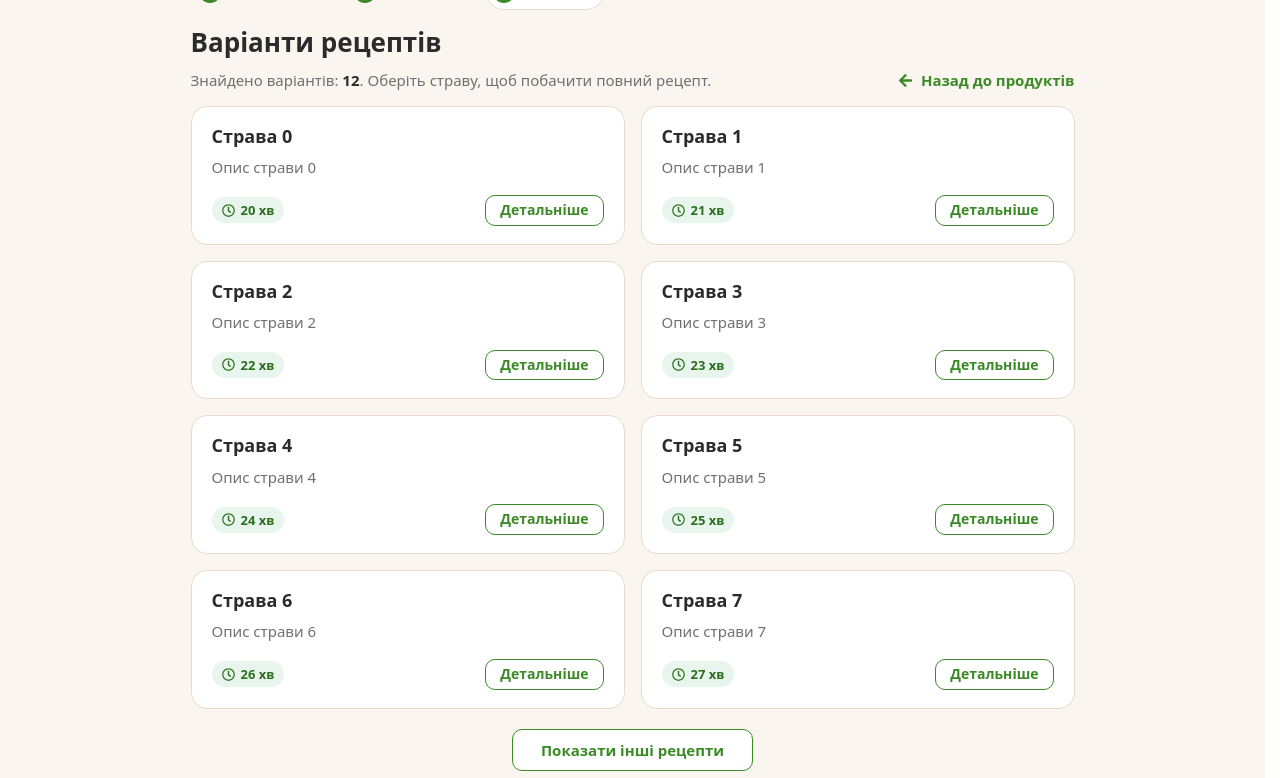
User journeys: favorites › saves recipe from suggestions
The image size is (1280, 778).
(page scrolled)
Expected: the heading "Страва 0" is shown, [212,124,292,148]
Click the button "Показати інші рецепти" at coordinates (632, 750), box [512,729,753,771]
(page scrolled)
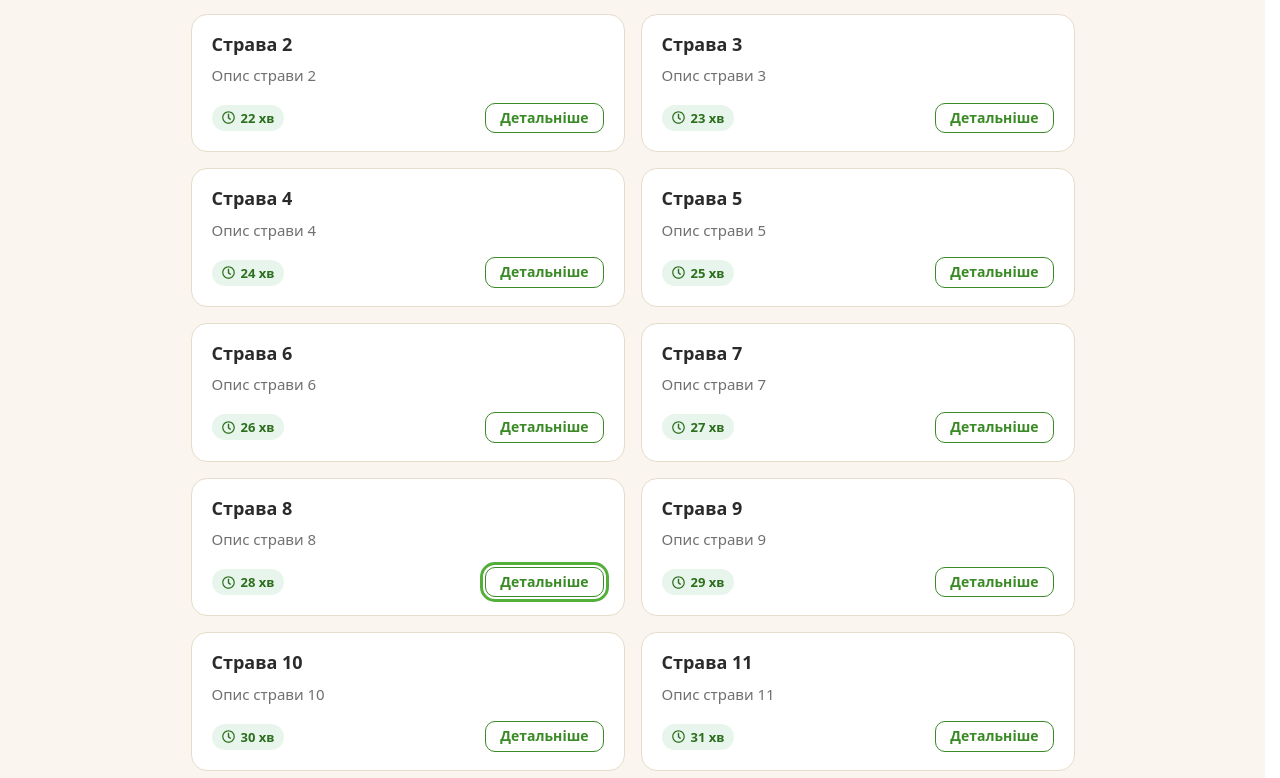
Click the link with aria-label "Детальніше: Страва 9" at coordinates (994, 582), box [935,567,1054,597]
(page scrolled)
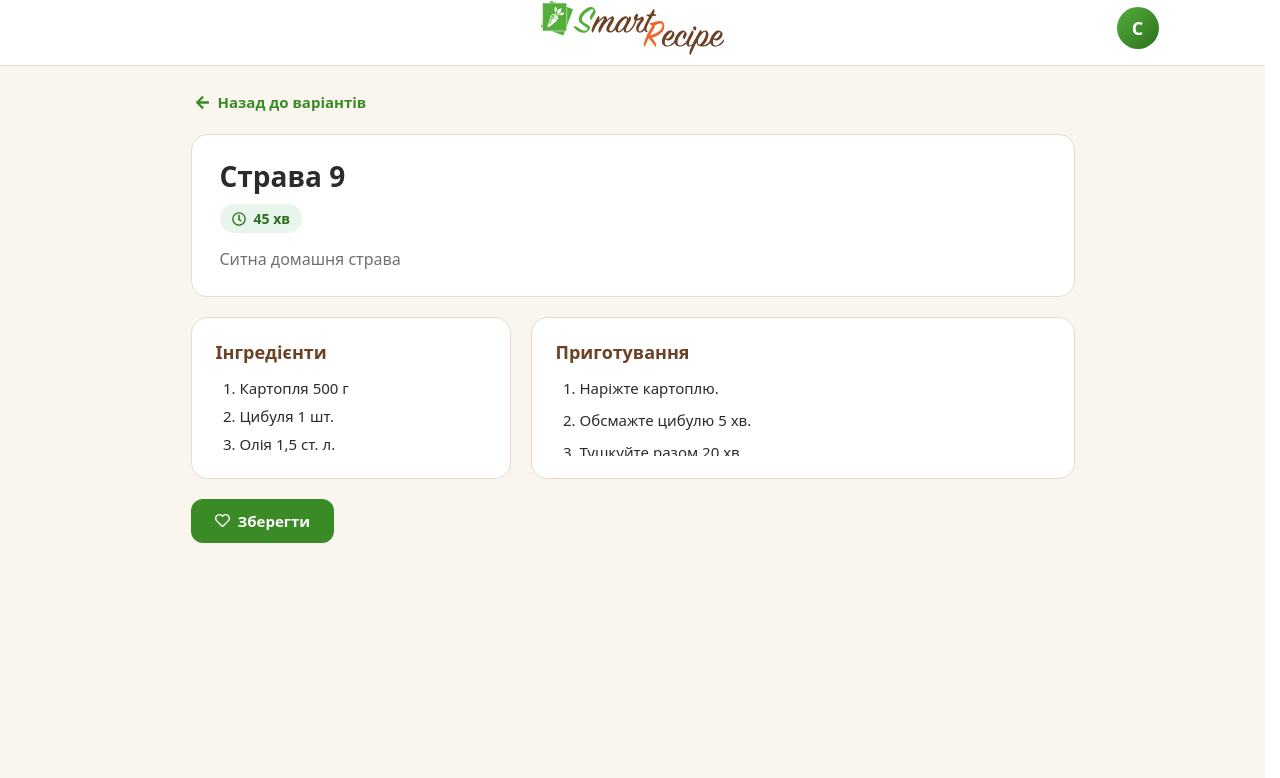
Now the heading "Страва 9" is shown, box [220,157,345,195]
Click the button "Зберегти" at coordinates (262, 521), box [190,499,334,543]
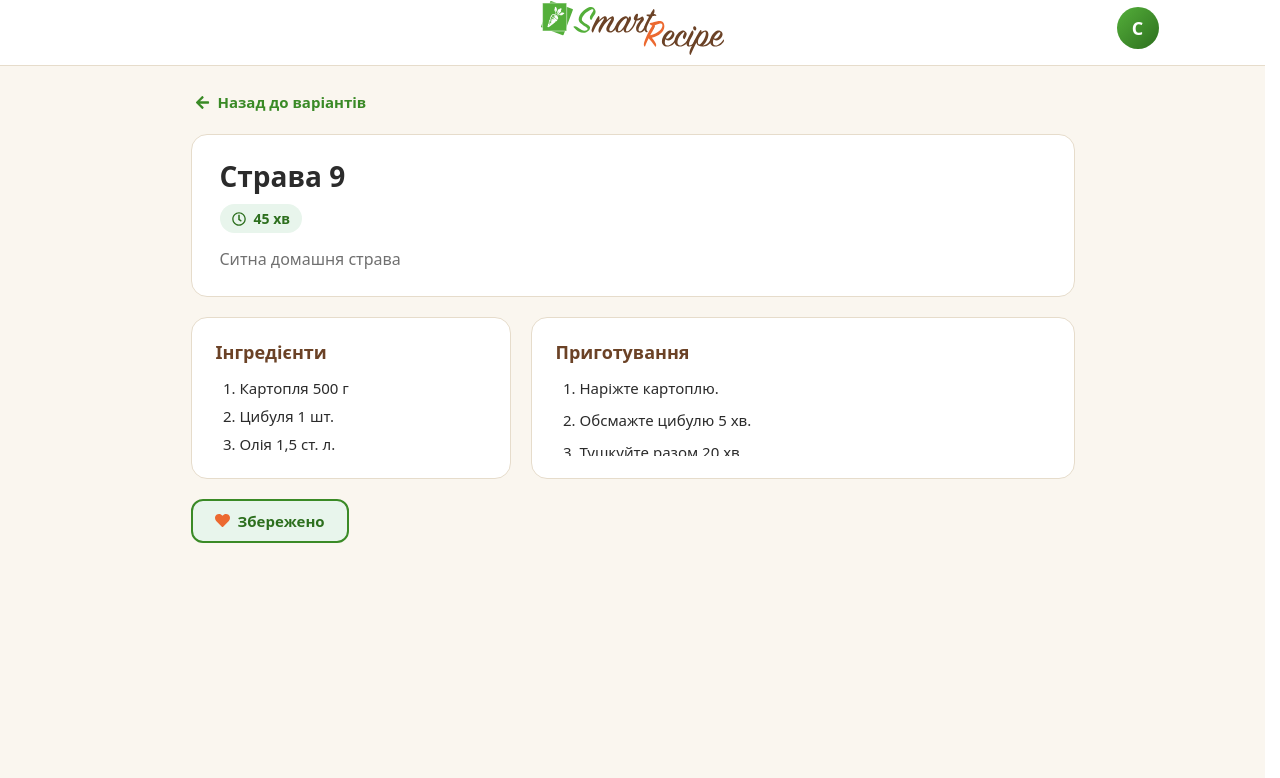
Now the button "Збережено" is shown, box [190,499,349,543]
Click the link "Назад до варіантів" at coordinates (280, 102), box [190,86,370,118]
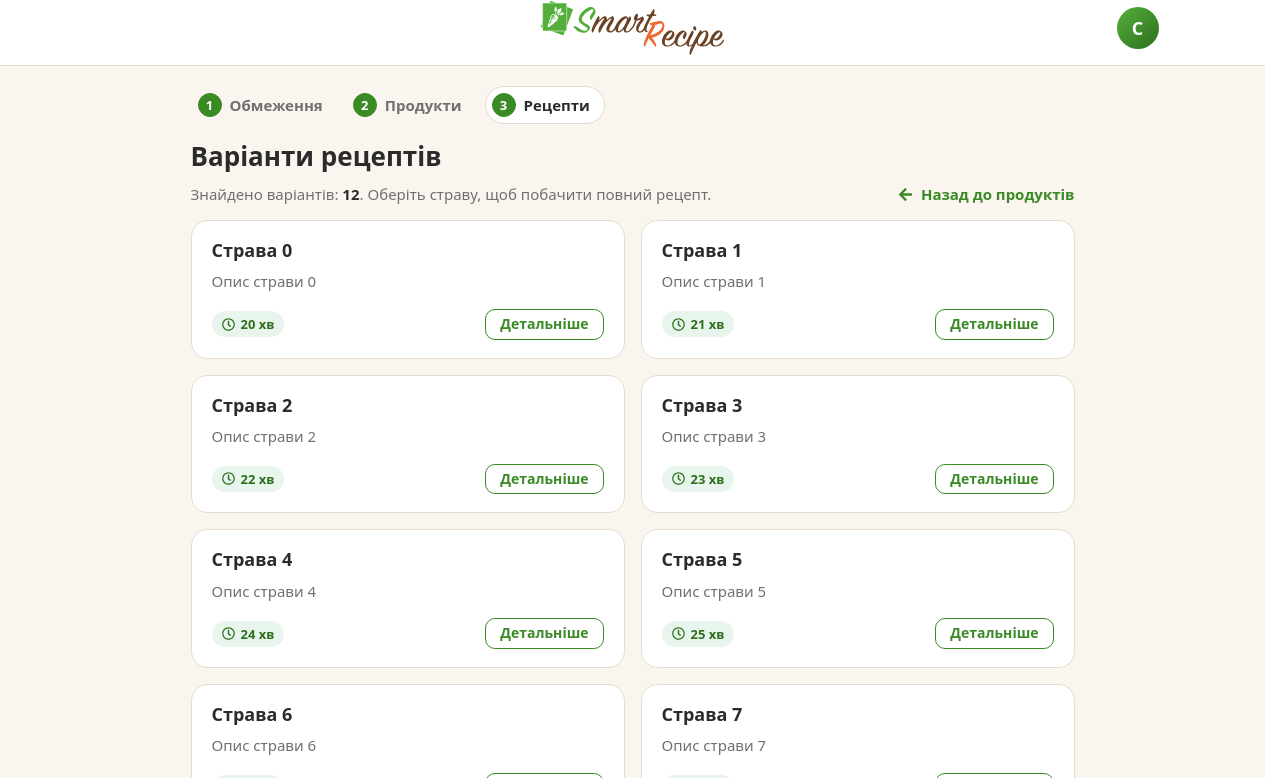
Now the heading "Страва 0" is shown, box [212,238,292,262]
Click the link named "Профіль" at coordinates (1138, 28), box [1116,7,1158,49]
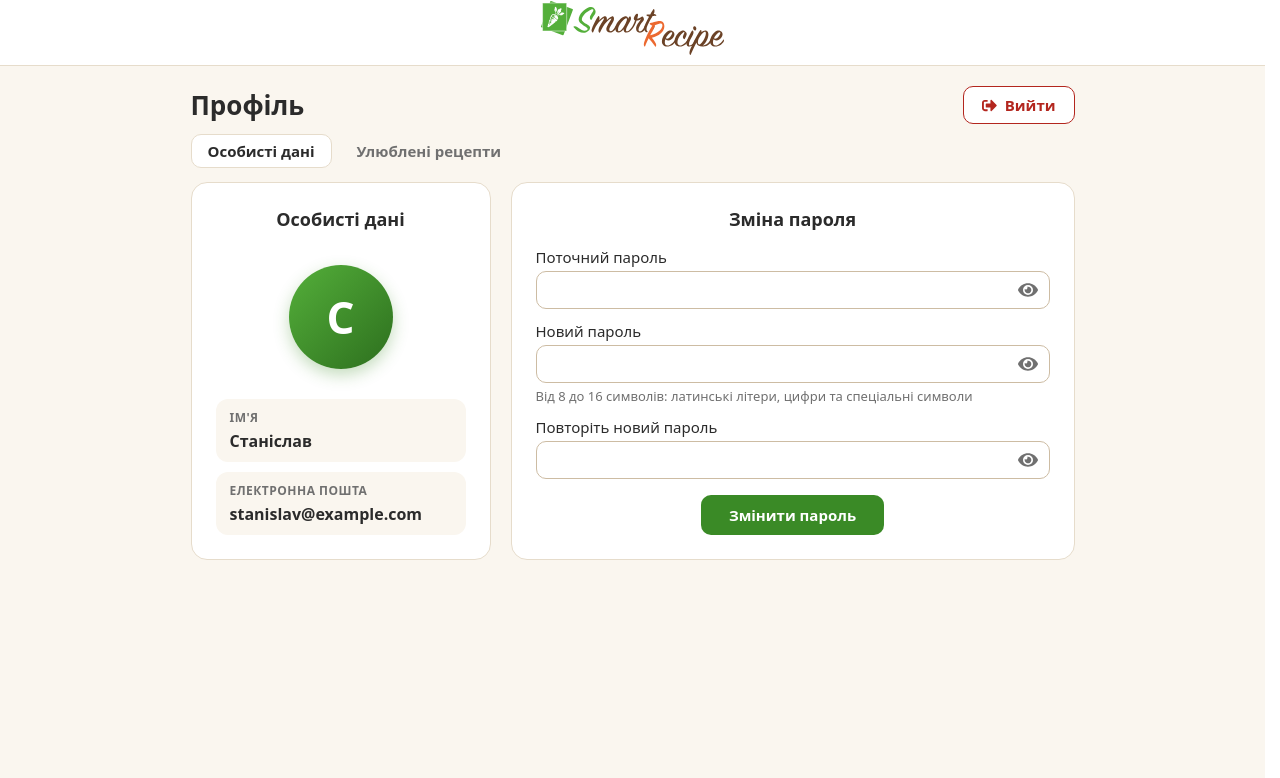
Click the link "Улюблені рецепти" at coordinates (429, 151), box [357,141,501,161]
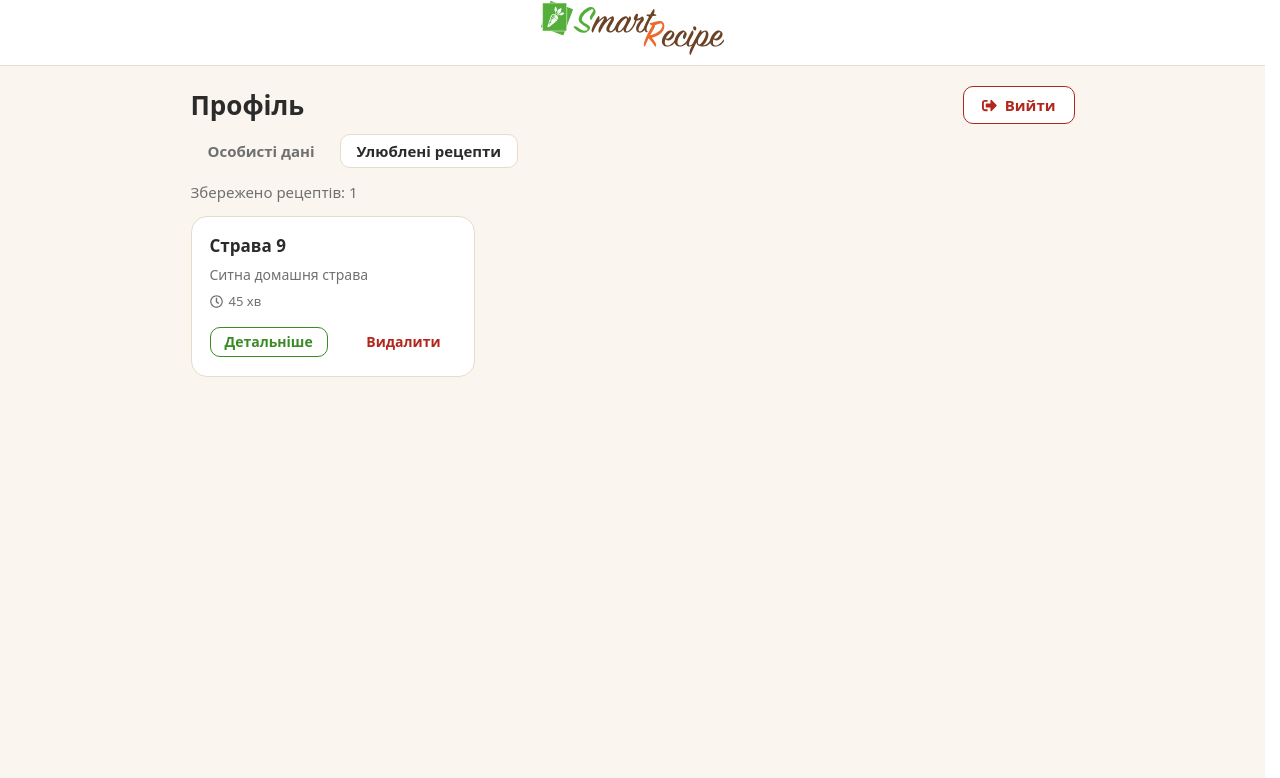
Now the heading "Страва 9" is shown, box [210,234,286,257]
